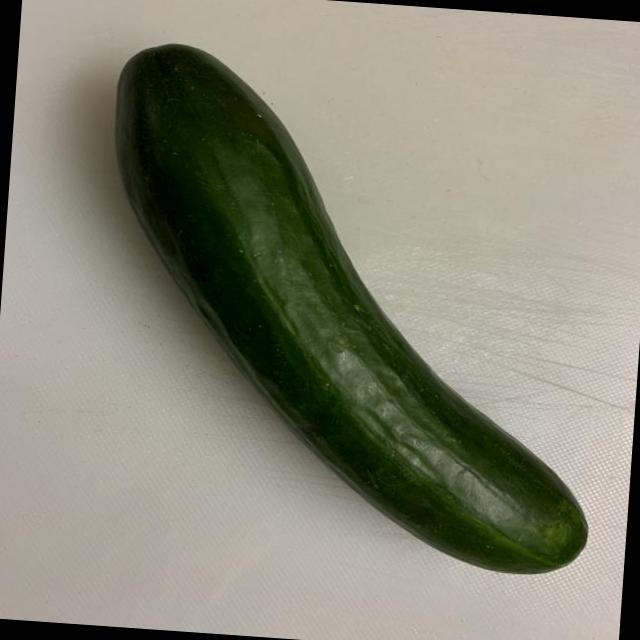Cucumber: (70, 36, 626, 576)
